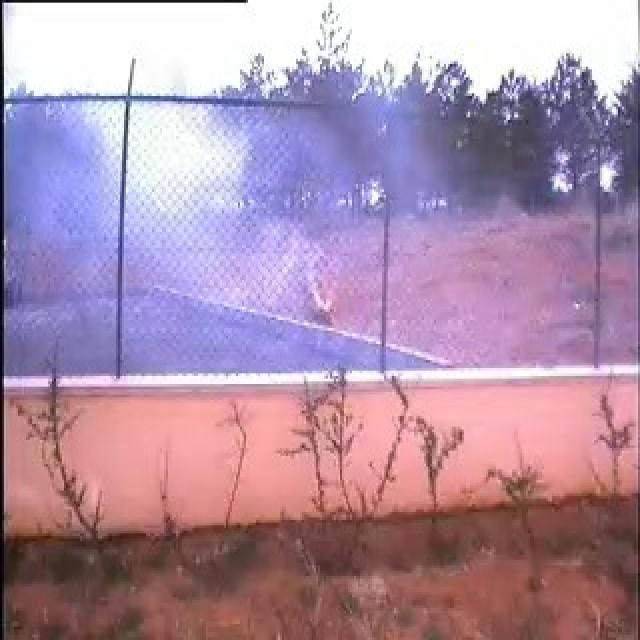smoke: (54, 103, 380, 376)
